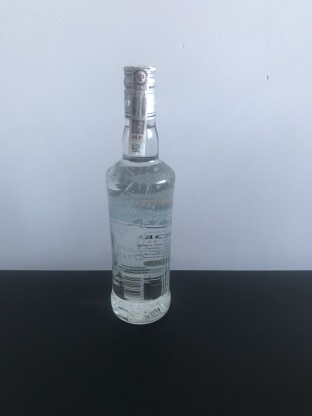nakretka: (120, 60, 159, 121)
